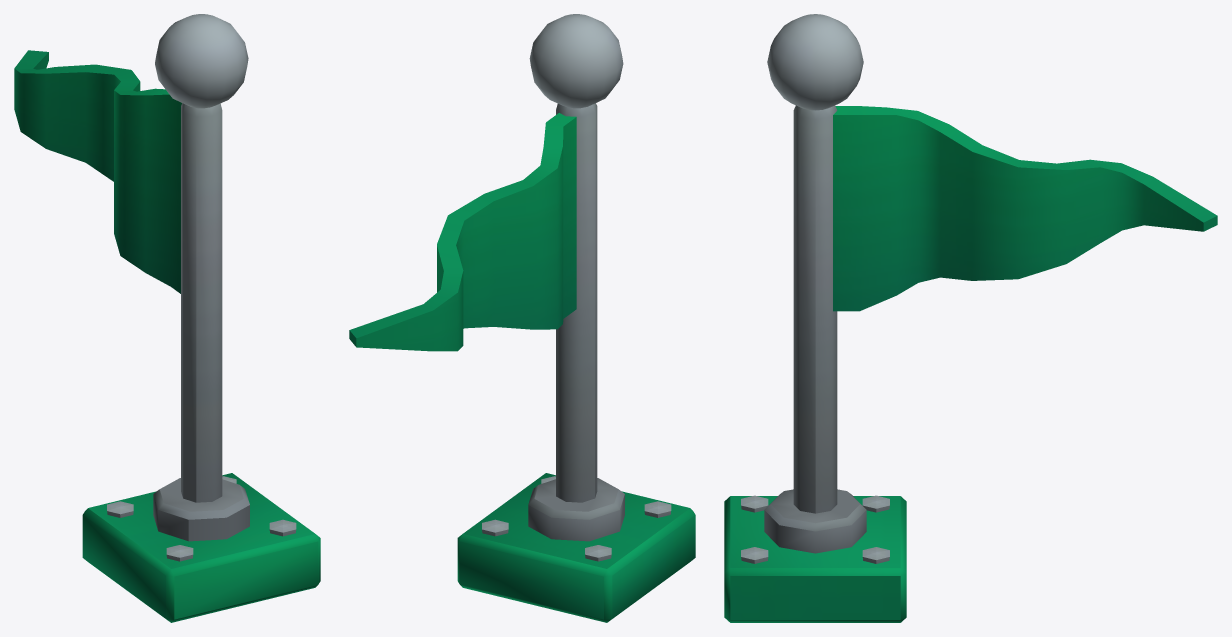
Rendered from kit-bendera-4.glb.
The picture shows the model from 3 angles, left to right: view 1: azimuth 30°, elevation 25°; view 2: azimuth 150°, elevation 25°; view 3: azimuth 270°, elevation 25°; orthographic projection. The views are drawn at different scales.
Parts seen in each view (by area): view 1: flag_A_green; view 2: flag_A_green; view 3: flag_A_green.
Part boxes in pixels (box(x1,y1,x2,y2)): flag_A_green: box(14, 14, 320, 622); flag_A_green: box(349, 14, 695, 622); flag_A_green: box(724, 14, 1217, 622).
Size of the model in its own units: 0.6395 by 2.2 by 1.73.
1 material, 1 textured.
